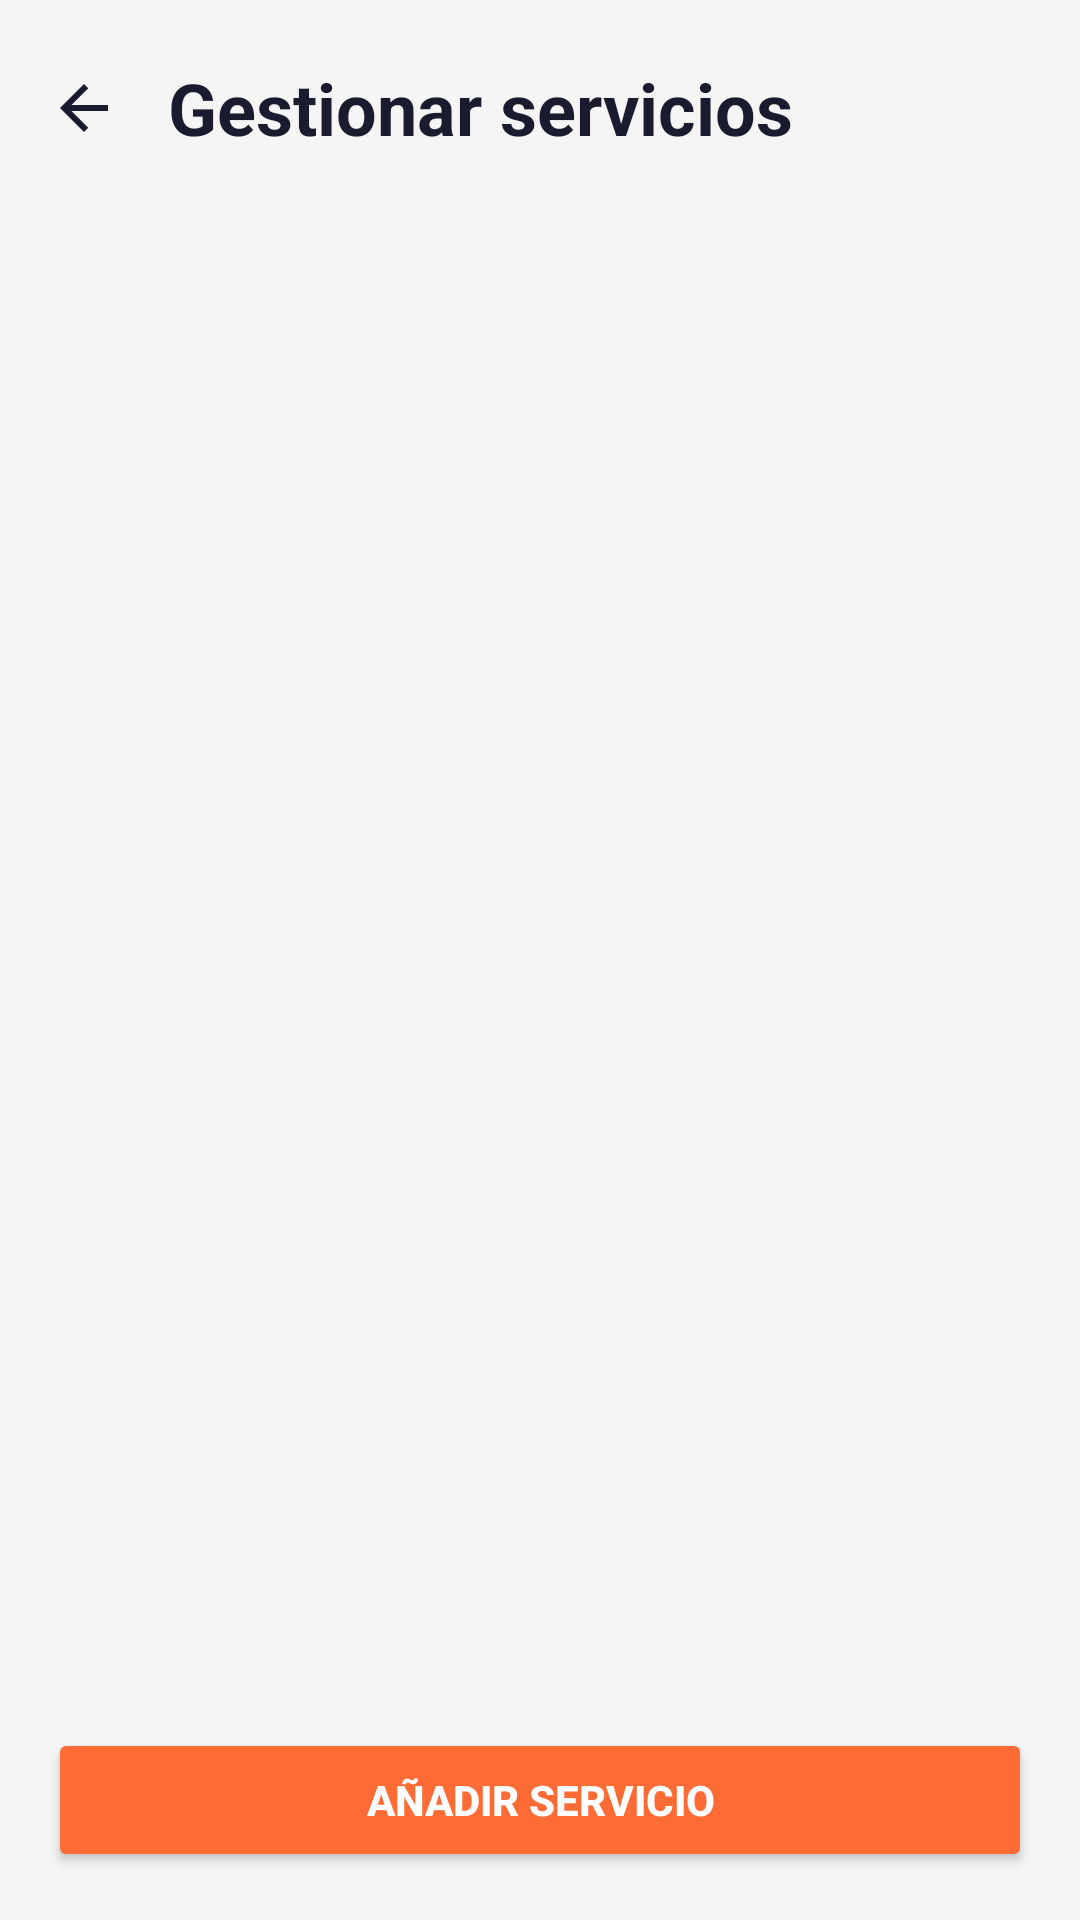

Screen size 1080px×1920px. Icon name, then its box in pixels as (x1, y1, x2, y2):
arrow back: (60, 84, 108, 132)
